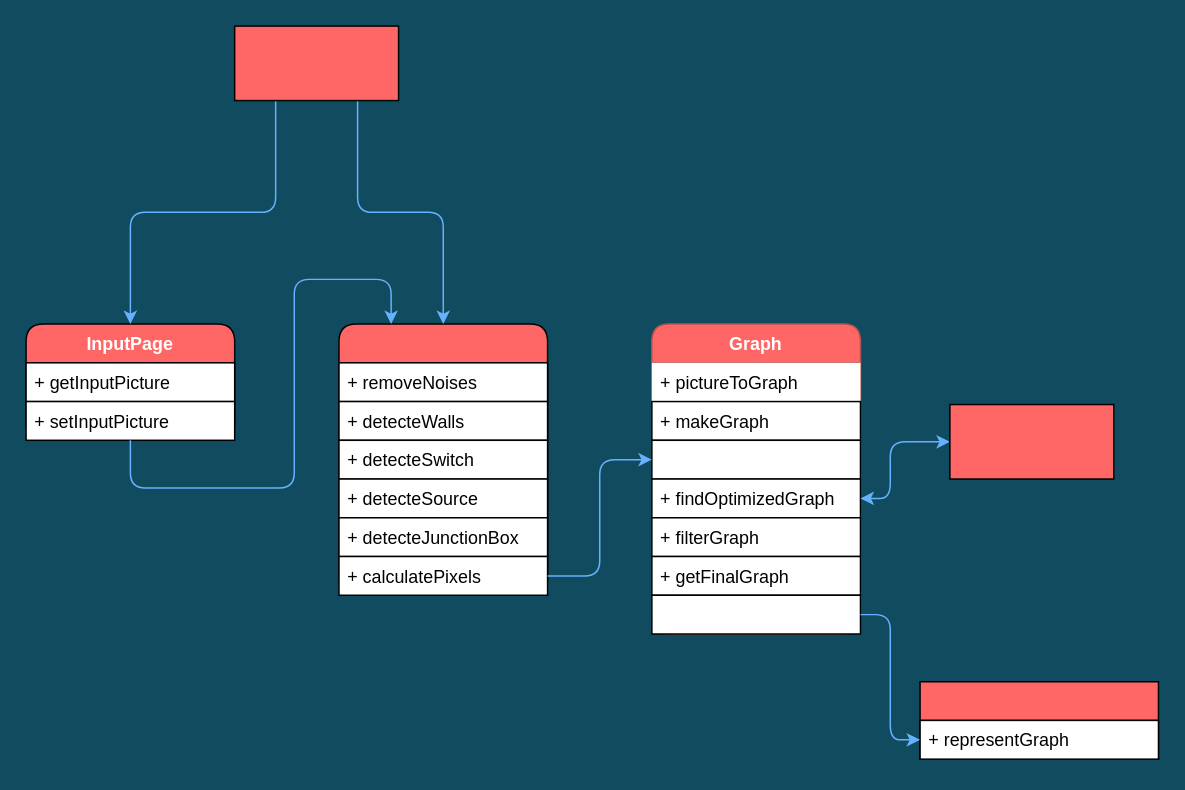
Some shapes in this 1185 by 790 pixel diagram are drawn without their labels. The box of each missing label's shape, as (x1, y1, x2, y2) in pixels:
+ drawGraph: (650, 594, 860, 634)
+ setWeight: (650, 439, 860, 479)
Picture class: (233, 25, 399, 101)
PictureProcess: (337, 323, 548, 595)
Prime Algorithm: (948, 403, 1114, 479)
Result: (919, 680, 1158, 759)
